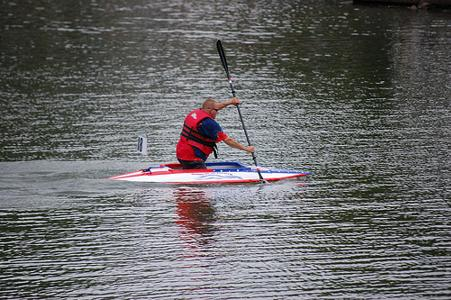person: (177, 97, 255, 169)
